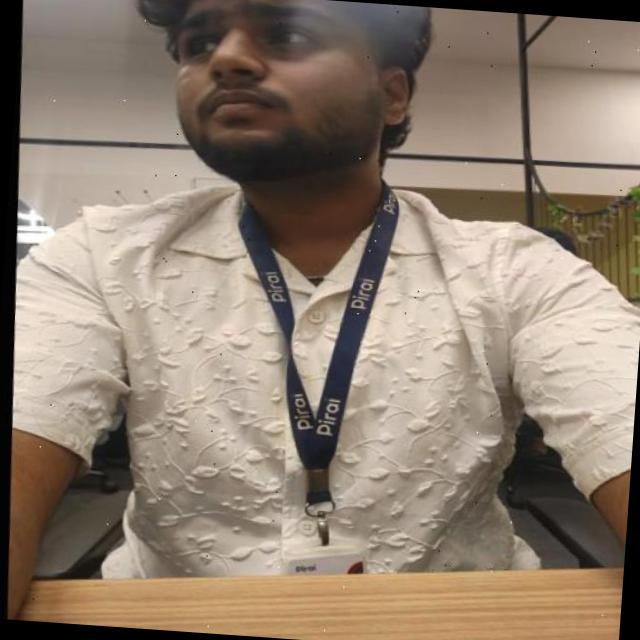id_card: (212, 162, 411, 587)
